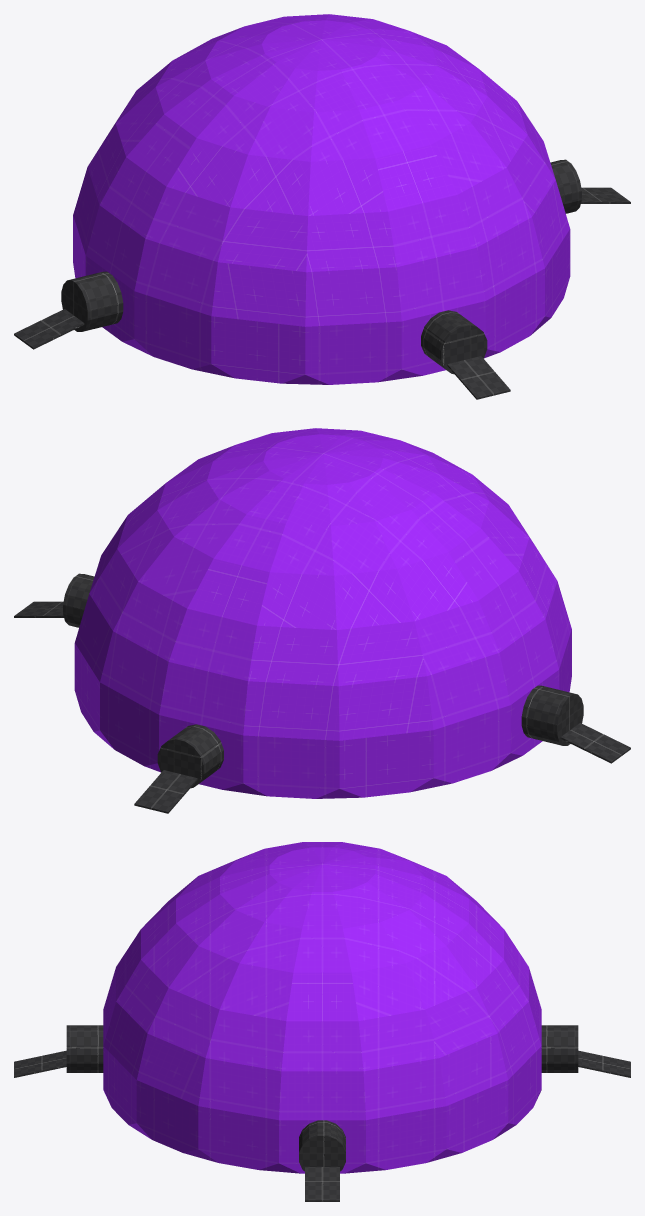
File: DomeFacade_01_LOD.glb
The picture shows the model from 3 angles, top to bottom: view 1: azimuth 30°, elevation 25°; view 2: azimuth 150°, elevation 25°; view 3: azimuth 270°, elevation 25°; orthographic projection. The views are drawn at different scales.
Parts seen in each view (by area): view 1: entity0_brush8, entity0_brush5, entity0_brush7, entity0_brush3, entity0_brush0, entity0_brush4, entity0_brush1; view 2: entity0_brush8, entity0_brush5, entity0_brush6, entity0_brush2, entity0_brush0, entity0_brush4, entity0_brush1; view 3: entity0_brush8, entity0_brush4, entity0_brush6, entity0_brush7, entity0_brush1, entity0_brush2, entity0_brush3.
Boxes of the visible parts, <box> form: entity0_brush8: <box>73,14,570,384</box>; entity0_brush5: <box>61,271,123,331</box>; entity0_brush7: <box>421,310,487,374</box>; entity0_brush3: <box>447,356,510,399</box>; entity0_brush0: <box>14,309,84,349</box>; entity0_brush4: <box>550,159,581,213</box>; entity0_brush1: <box>581,187,630,203</box>; entity0_brush8: <box>74,428,571,798</box>; entity0_brush5: <box>521,685,583,745</box>; entity0_brush6: <box>157,724,223,788</box>; entity0_brush2: <box>134,770,197,813</box>; entity0_brush0: <box>560,723,630,763</box>; entity0_brush4: <box>63,573,94,627</box>; entity0_brush1: <box>14,601,63,617</box>; entity0_brush8: <box>103,842,541,1173</box>; entity0_brush4: <box>299,1120,345,1171</box>; entity0_brush6: <box>541,1025,578,1072</box>; entity0_brush7: <box>66,1025,103,1072</box>; entity0_brush1: <box>305,1167,339,1201</box>; entity0_brush2: <box>578,1050,630,1077</box>; entity0_brush3: <box>14,1050,66,1077</box>.
Bounding box in the file's own units: 1412 × 546 × 1408.
Materials: 2 (2 with a texture image).
